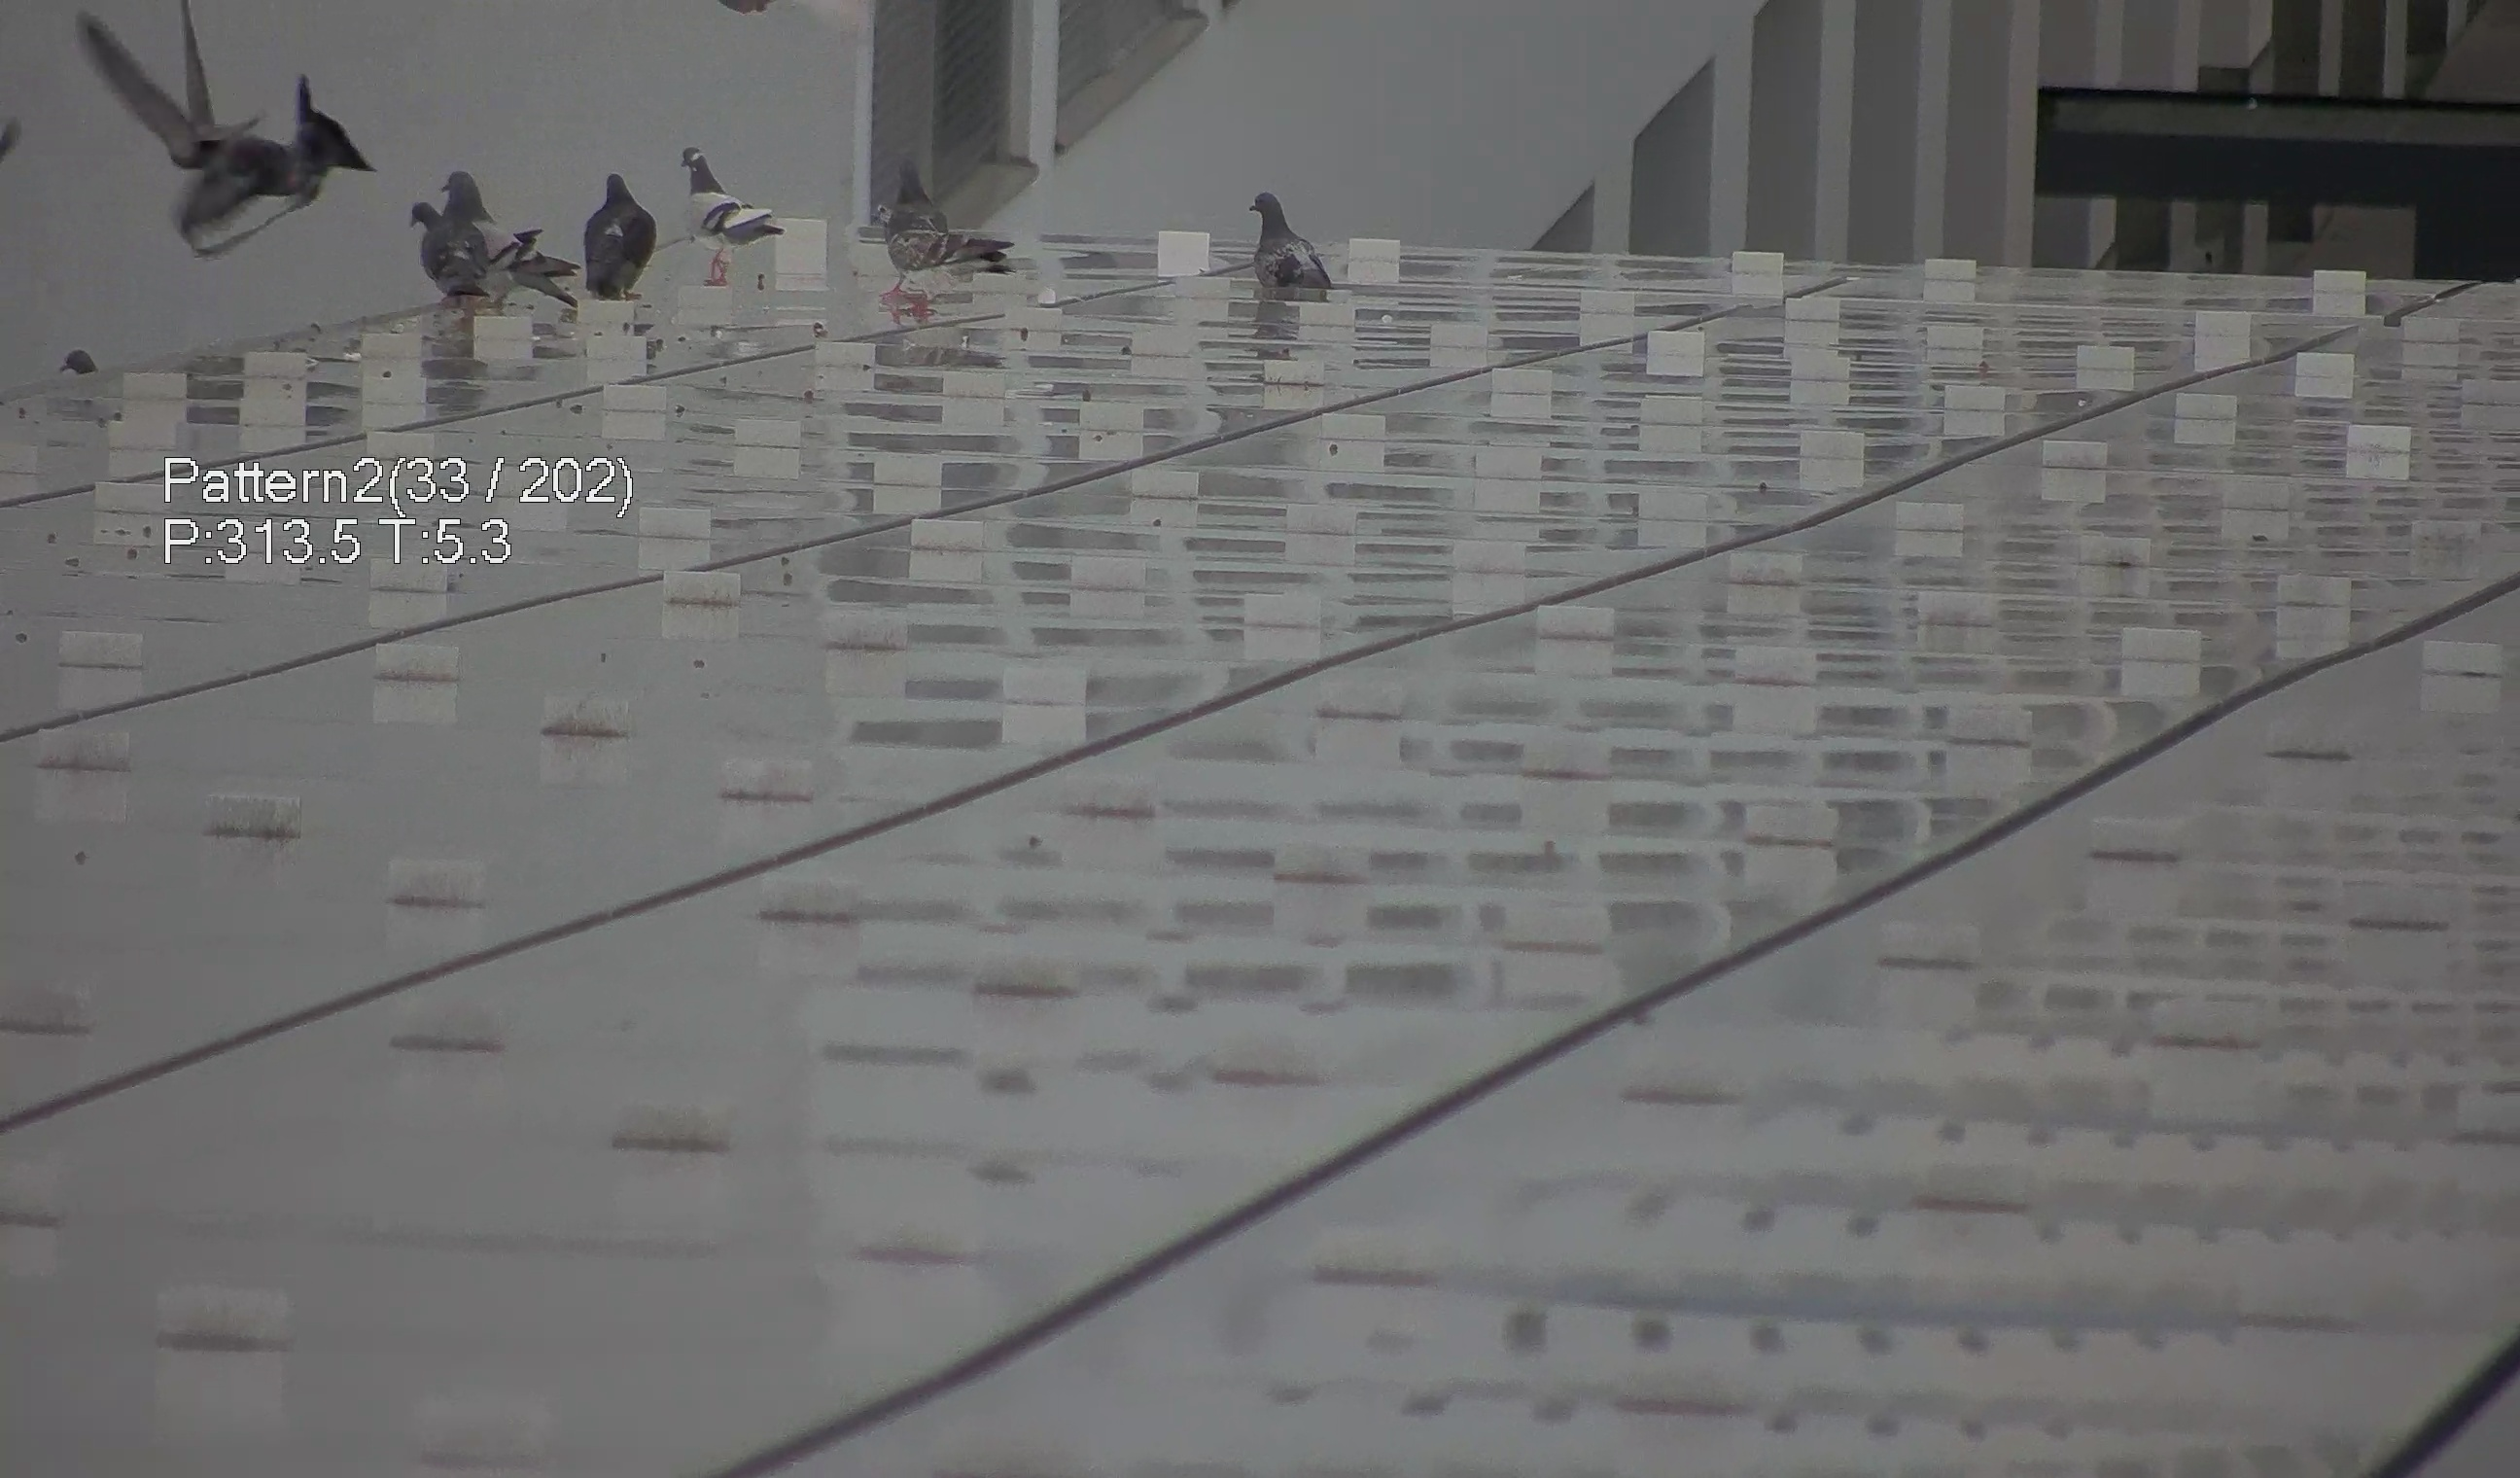Pigeon: (116, 33, 378, 248), (390, 153, 540, 313), (872, 141, 997, 329), (672, 141, 788, 269), (557, 158, 652, 301), (1235, 172, 1331, 292), (56, 334, 109, 396)
